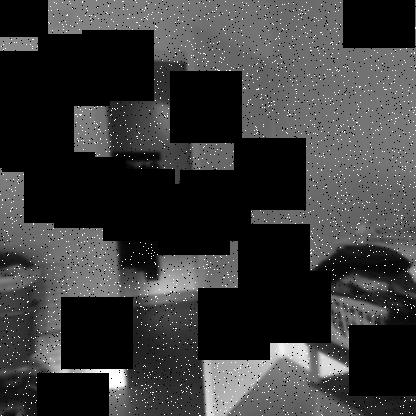Porte: (85, 23, 282, 415)
